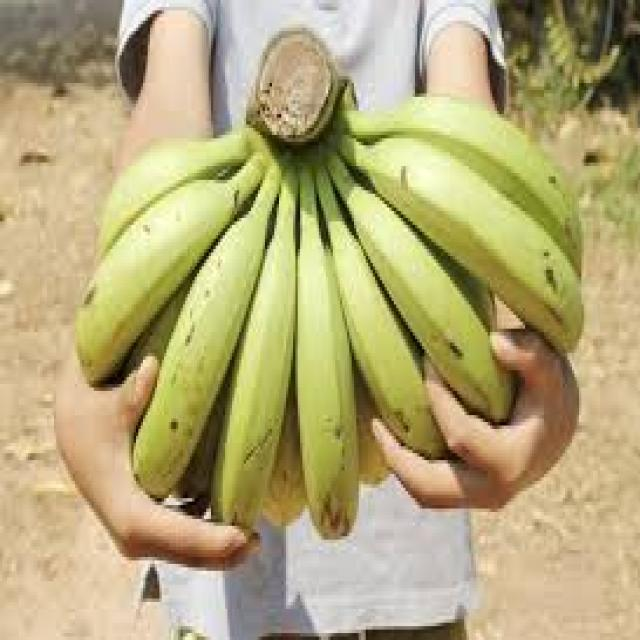banana: (72, 24, 584, 540)
